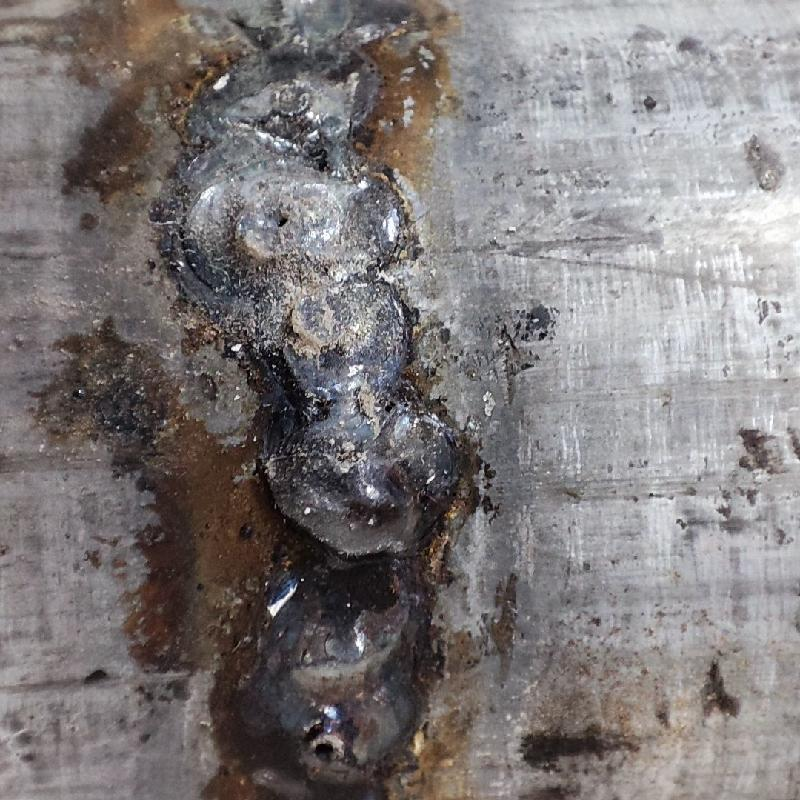Not_fully_soldered: (189, 3, 443, 541)
Surface_pores: (253, 193, 316, 243), (303, 718, 347, 770)
